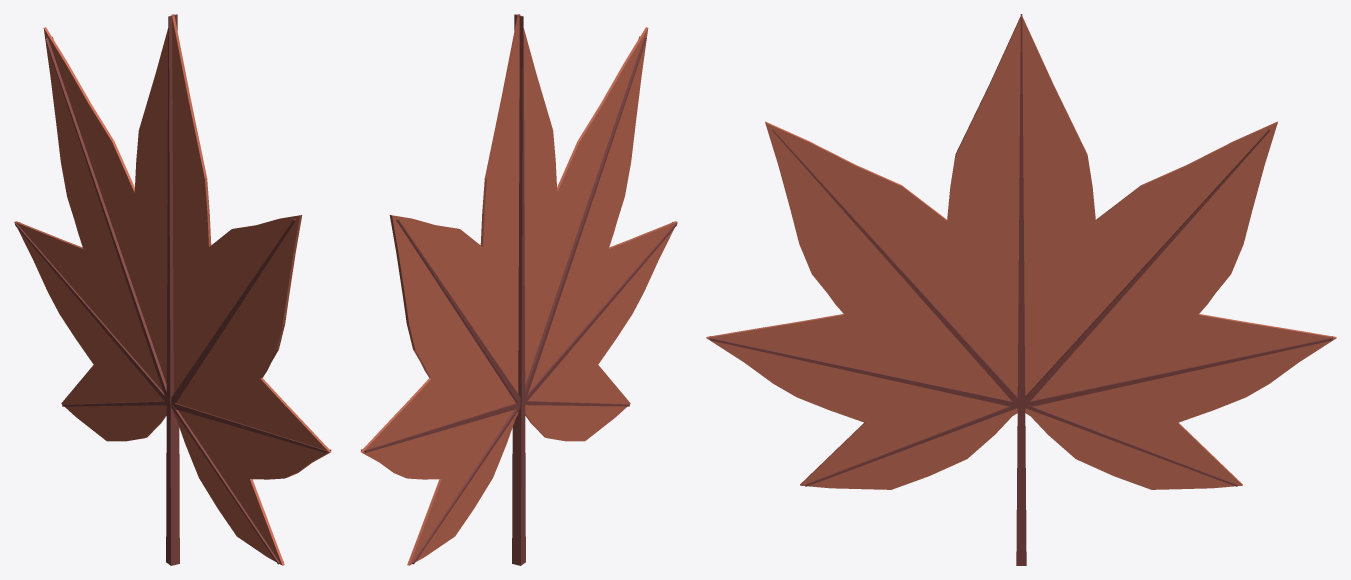
Rendered from Leaf.fbx.
3 renders of one model, left to right at view 1: azimuth 30°, elevation 25°; view 2: azimuth 150°, elevation 25°; view 3: azimuth 270°, elevation 25°, orthographic.
Visible parts, largest first — view 1: Leaf; view 2: Leaf; view 3: Leaf.
Boxes of the visible parts, x1=… form: Leaf: x1=14, y1=14, x2=331, y2=565; Leaf: x1=360, y1=14, x2=677, y2=565; Leaf: x1=706, y1=14, x2=1336, y2=565.
Size of the model in its own units: 3.7 by 221 by 230.
